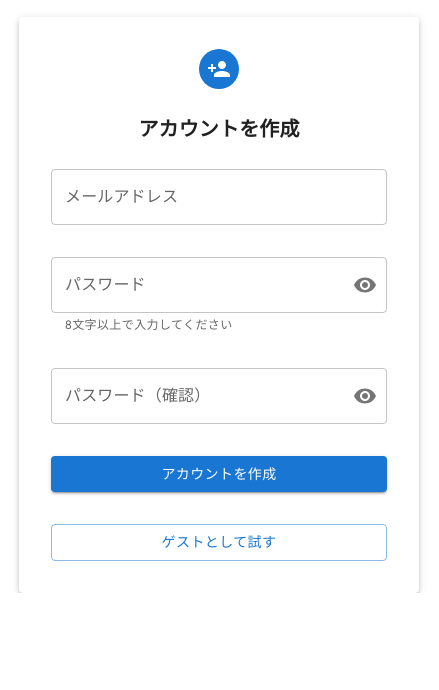
Test: AuthForm 異常系 › サインアップ時にネットワークエラーが発生するとエラーメッセージが表示される
This screenshot has width=439, height=690.
Type "test@example.com" into the field labelled "メールアドレス" at {"x": 219, "y": 197}, box [51,169,387,225]
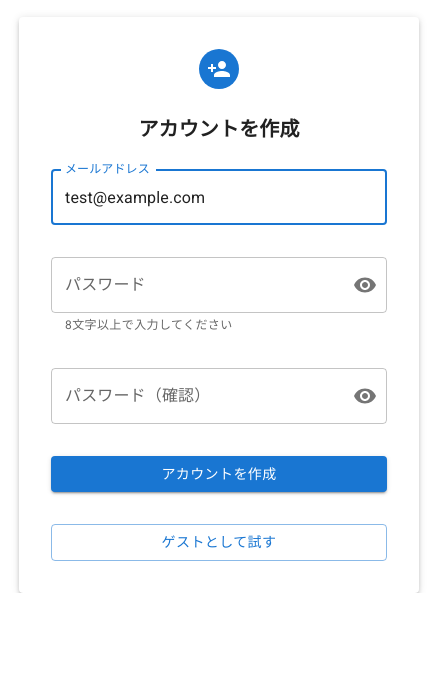
Type "password" into the password field labelled "パスワード" at {"x": 194, "y": 285}, box [51,257,337,313]
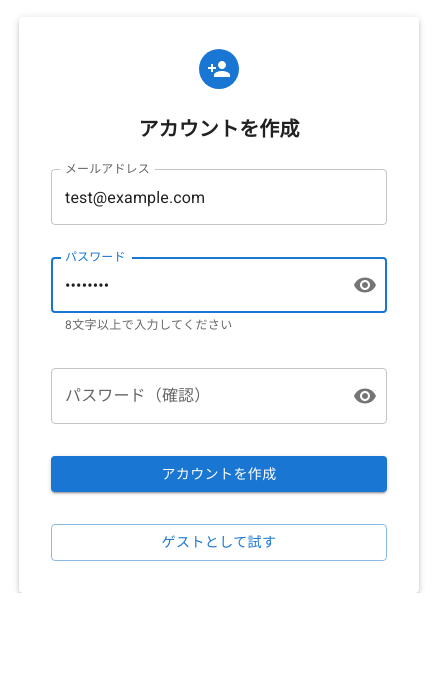
Type "password" into the password field labelled "パスワード（確認）" at {"x": 194, "y": 396}, box [51,368,337,424]
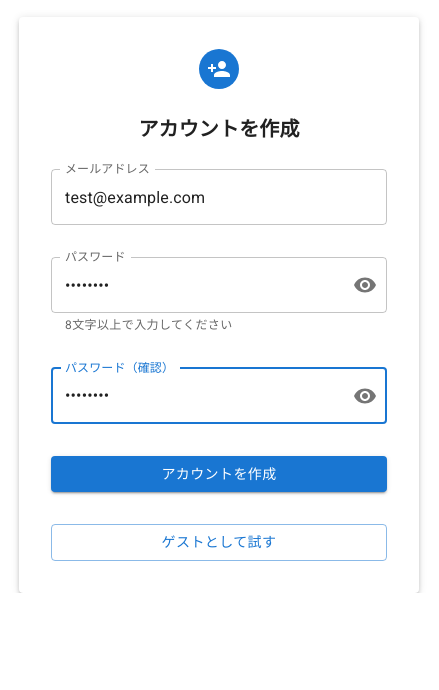
Click the button "アカウントを作成" at {"x": 219, "y": 474}, box [51,456,387,492]
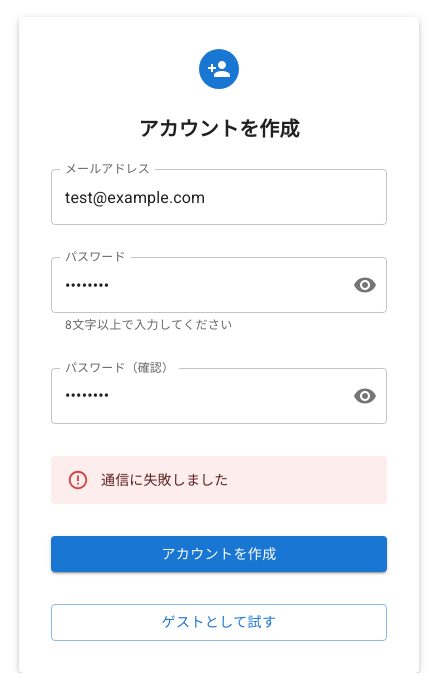
Expected: the message reads "通信に失敗しました", [101,472,228,488]
